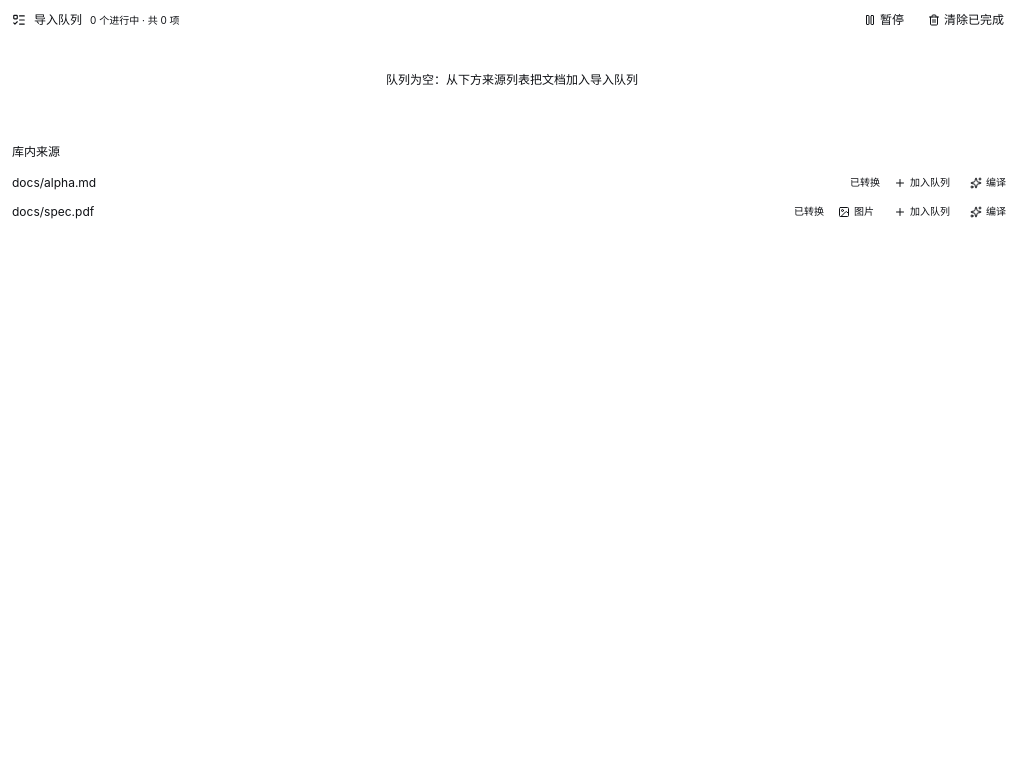
Test: KbWikiTasks PDF 资产面板（issue 11） › 解读失败与无解读的卡片给出可操作提示
Expected: the text "docs/spec.pdf" is shown, [12,204,94,219]
Click the button titled "查看 PDF 图像资产": (856, 212) [832,203,880,221]
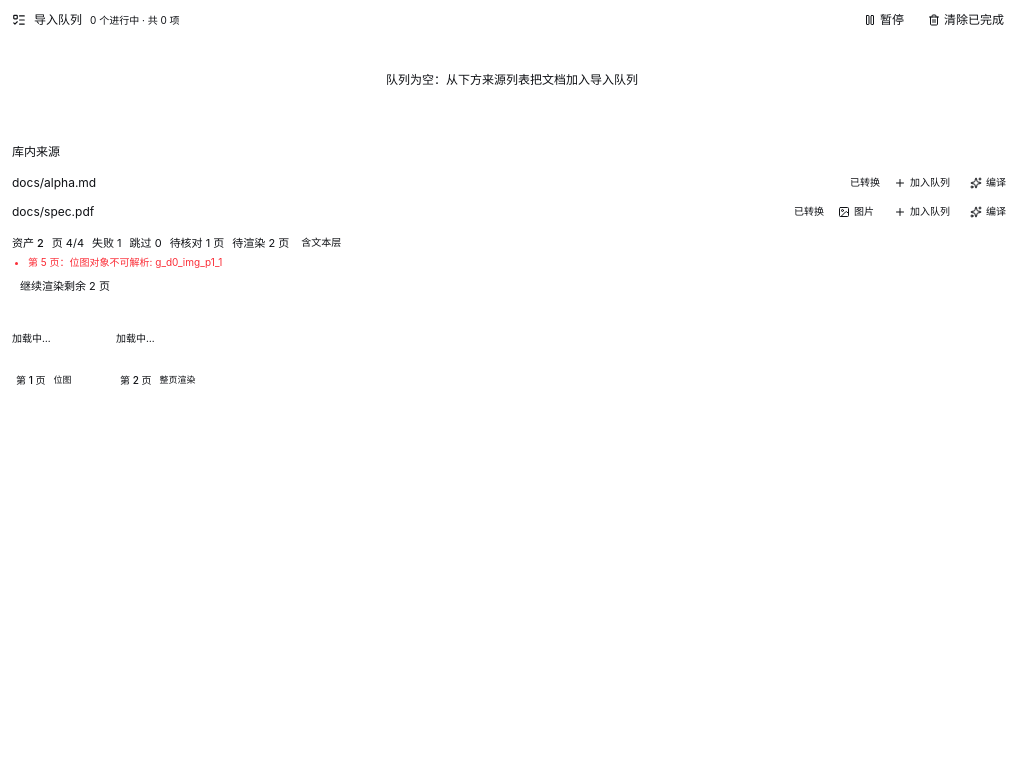
失败解读：错误码与详情可见，提示重试
Click the button "加载中… 第 1 页 位图": (60, 348) [12,307,108,390]
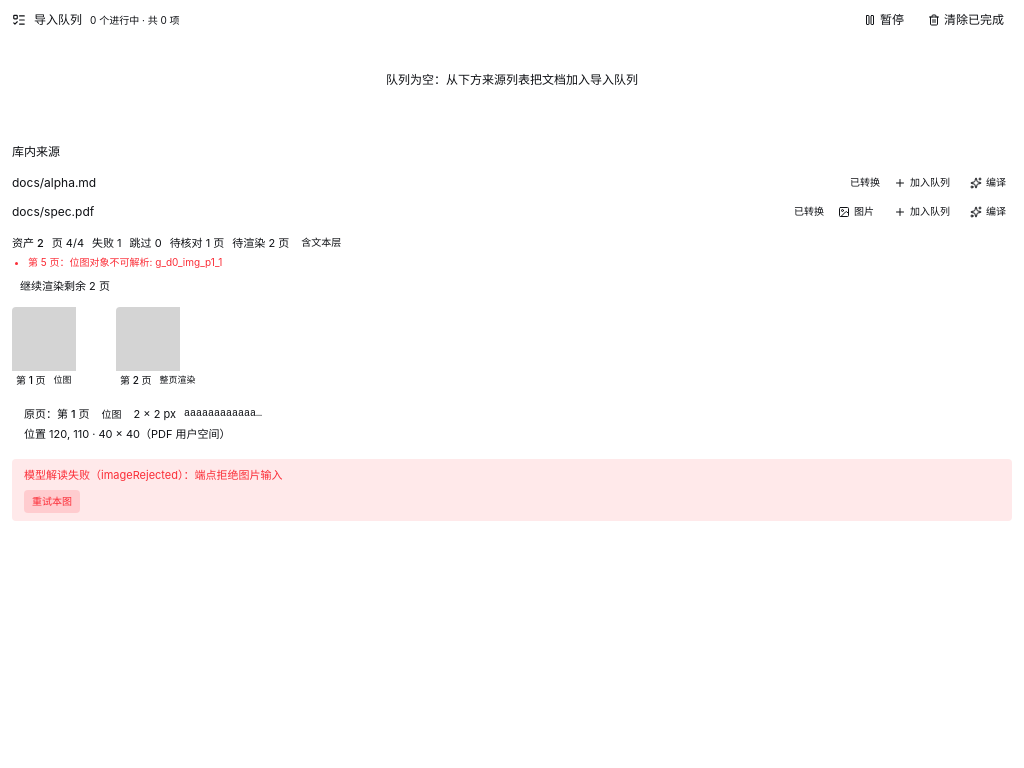
Expected: the text "模型解读失败（imageRejected）：端点拒绝图片输入" is shown, [24,468,282,482]
无解读：点击 b 卡片 → 尚无模型解读提示
Click the button "第 2 页 整页渲染": (164, 348) [116,307,212,390]
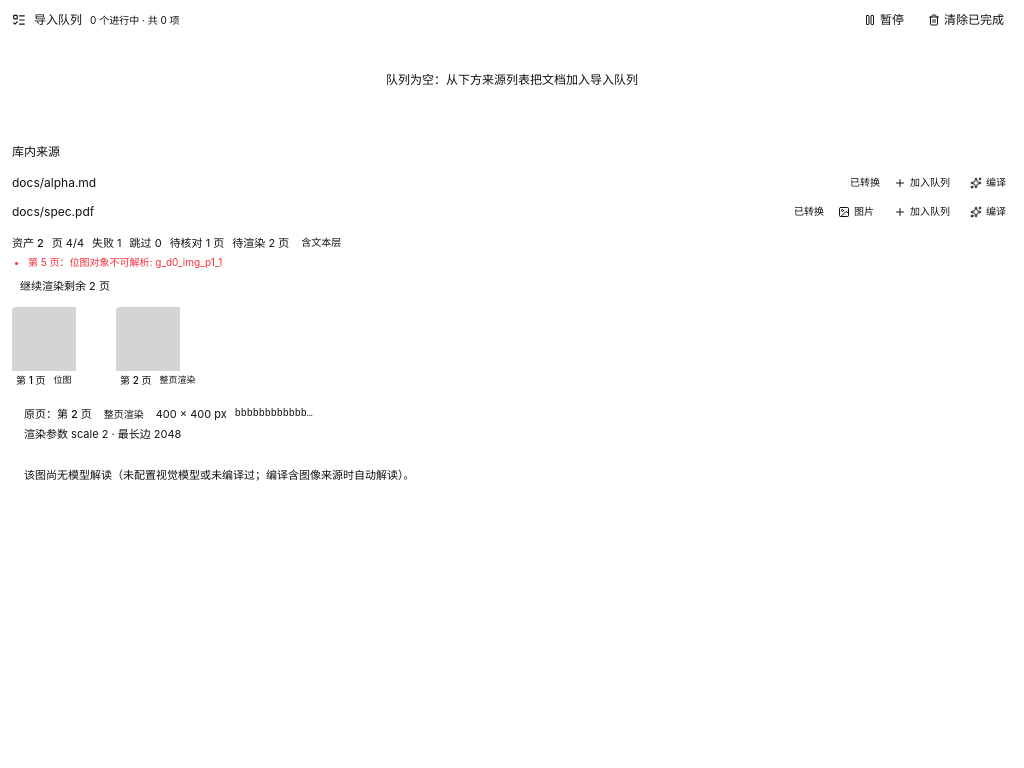
Expected: the text "该图尚无模型解读（未配置视觉模型或未编译过；编译含图像来源时自动解读）。" is shown, [24,468,414,482]
